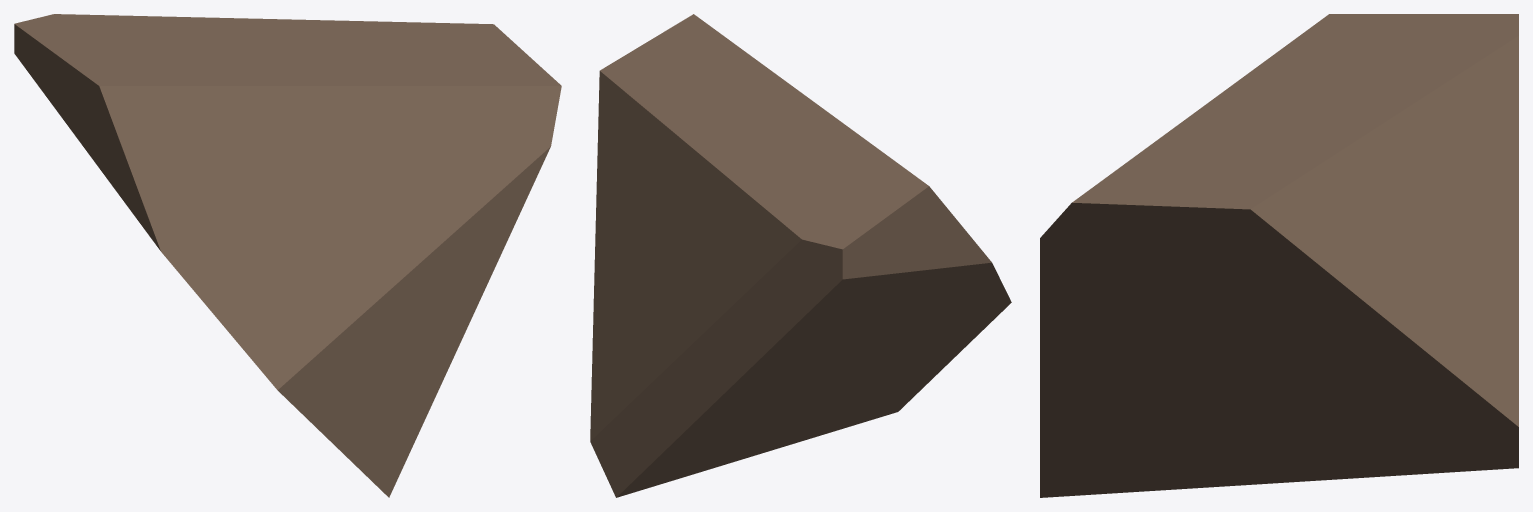
The model's file is JaggedRock3.fbx.
3 views of the same model, side by side, from view 1: azimuth 30°, elevation 25°; view 2: azimuth 150°, elevation 25°; view 3: azimuth 270°, elevation 25° (orthographic). The views are drawn at different scales.
Parts seen in each view (by area): view 1: JaggedRock3; view 2: JaggedRock3; view 3: JaggedRock3.
Boxes of the visible parts, box(x1,y1,x2,y2) form: JaggedRock3: box(14, 14, 561, 497); JaggedRock3: box(590, 14, 1011, 497); JaggedRock3: box(1040, 14, 1518, 497).
Bounding box in the file's own units: 36.62 × 34.67 × 37.91.
